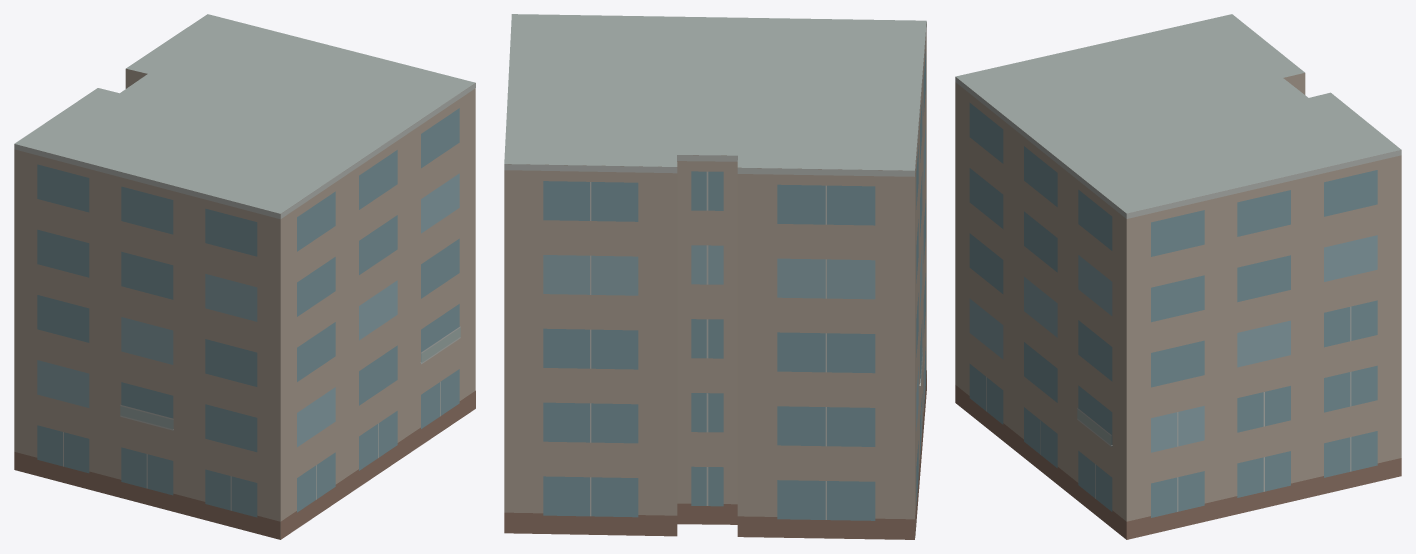
Rendered from survey-upis-32652647.glb.
3 views of the same model, side by side, from view 1: azimuth 30°, elevation 25°; view 2: azimuth 150°, elevation 25°; view 3: azimuth 270°, elevation 25° (orthographic). The views are drawn at different scales.
Visible parts, largest first — view 1: survey-upis-32652647.tmp; view 2: survey-upis-32652647.tmp; view 3: survey-upis-32652647.tmp.
Boxes of the visible parts, x1,y1,x2,y2 form: survey-upis-32652647.tmp: (14,14,475,539); survey-upis-32652647.tmp: (504,14,926,539); survey-upis-32652647.tmp: (955,14,1401,539).
Size of the model in its own units: 19.16 by 14.6 by 18.11.
